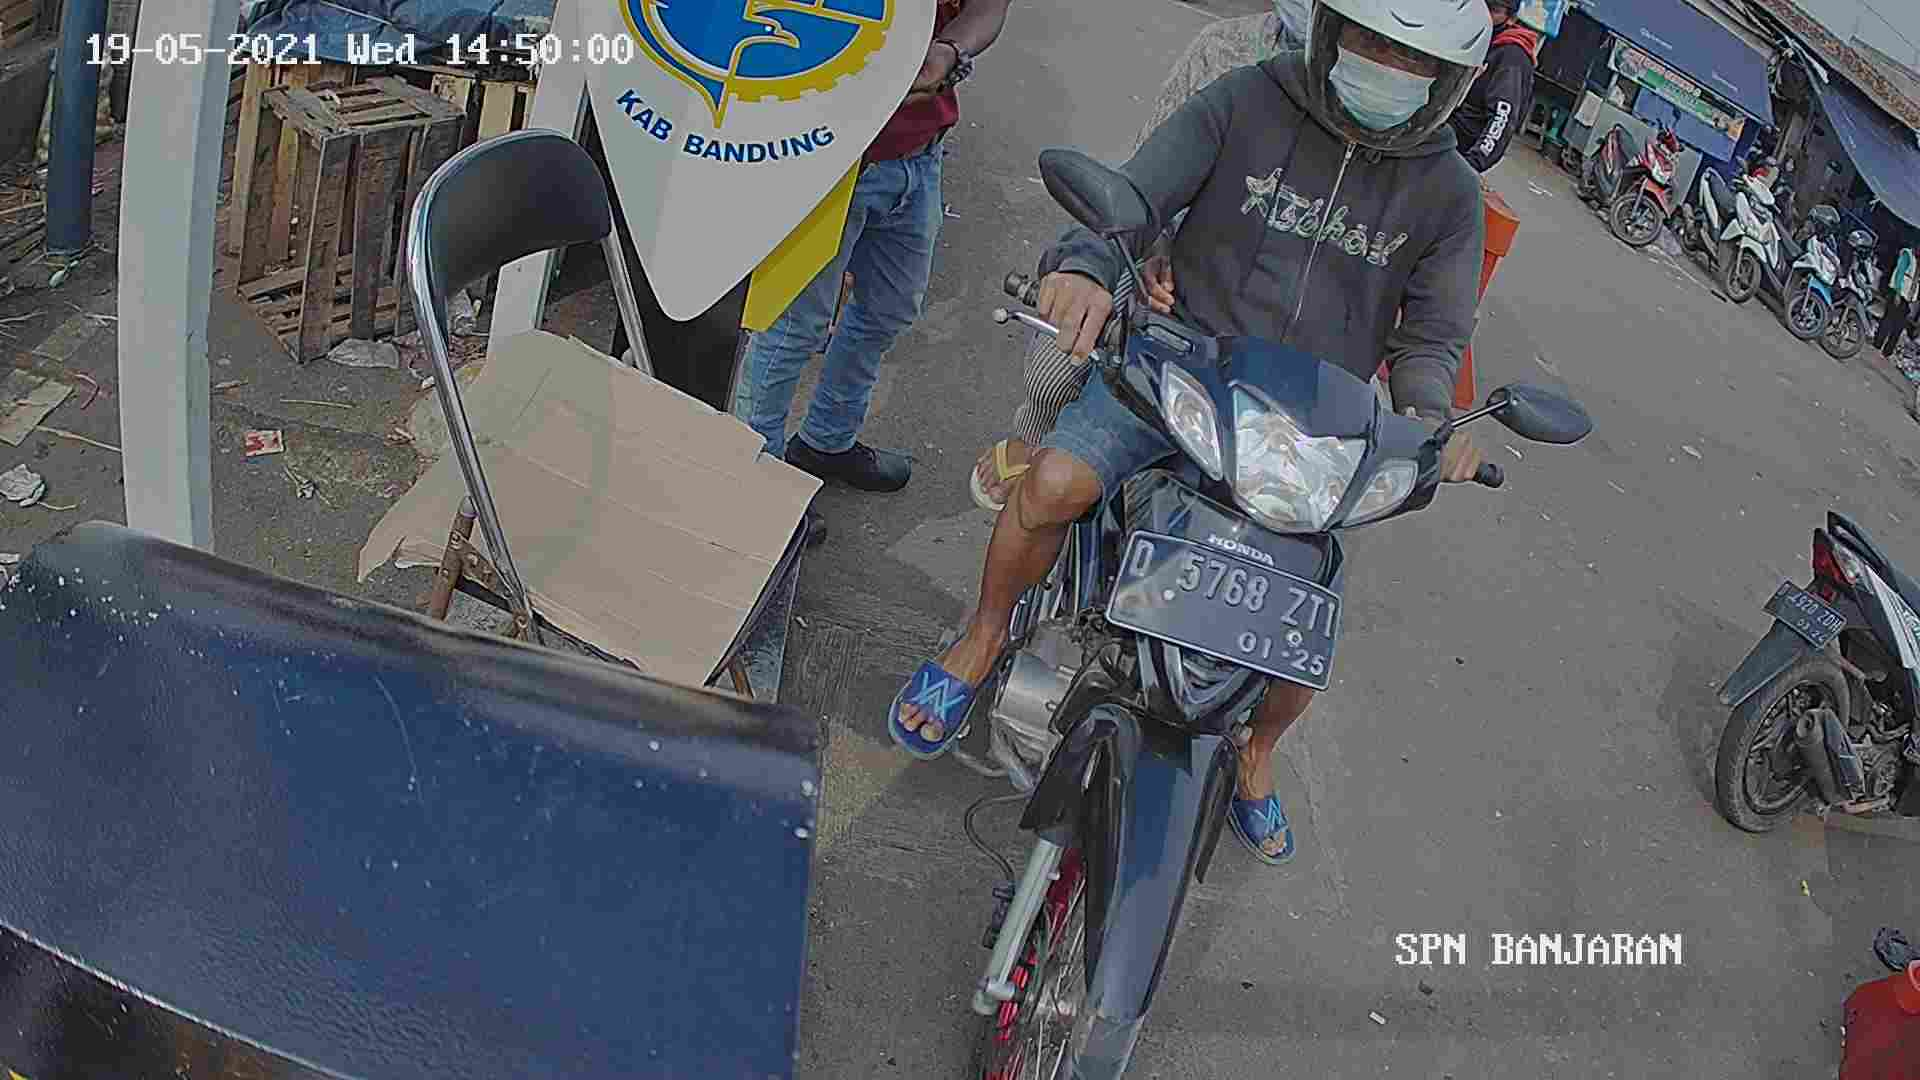motor: (957, 233, 1455, 1080)
